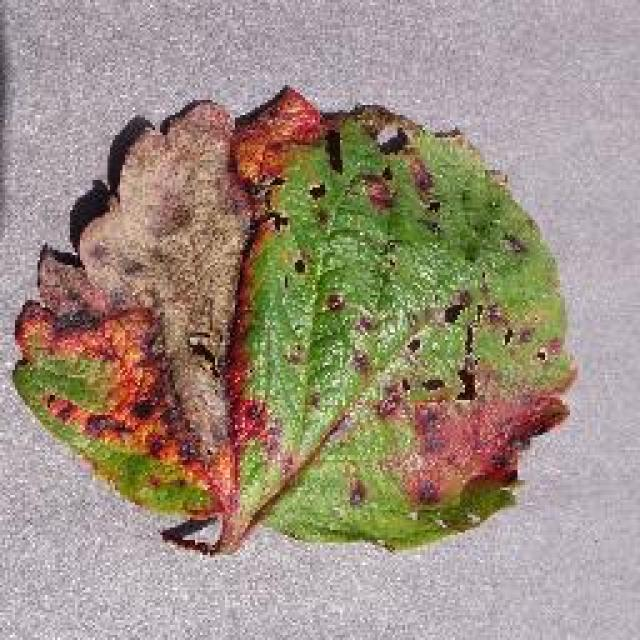Strawberry leaf scorch: (69, 99, 524, 514)
